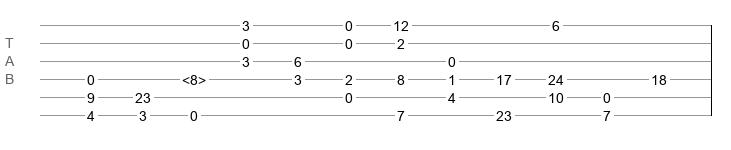0: (87, 72, 95, 82), (190, 108, 198, 118), (242, 36, 250, 46), (345, 90, 353, 100), (345, 36, 353, 46), (345, 18, 353, 28), (448, 54, 456, 64), (603, 90, 611, 100)
1: (448, 72, 456, 82)
10: (548, 90, 564, 100)
12: (393, 18, 409, 28)
17: (496, 72, 512, 82)
18: (651, 72, 667, 82)
2: (345, 72, 353, 82), (397, 36, 405, 46)
23: (135, 90, 151, 100), (496, 108, 512, 118)
24: (548, 72, 564, 82)
3: (139, 108, 147, 118), (242, 18, 250, 28), (242, 54, 250, 64), (294, 72, 302, 82)
4: (87, 108, 95, 118), (448, 90, 456, 100)
6: (294, 54, 302, 64), (552, 18, 560, 28)
7: (397, 108, 405, 118), (603, 108, 611, 118)
8: (397, 72, 405, 82)
9: (87, 90, 95, 100)
harmonic: (182, 72, 206, 82)
